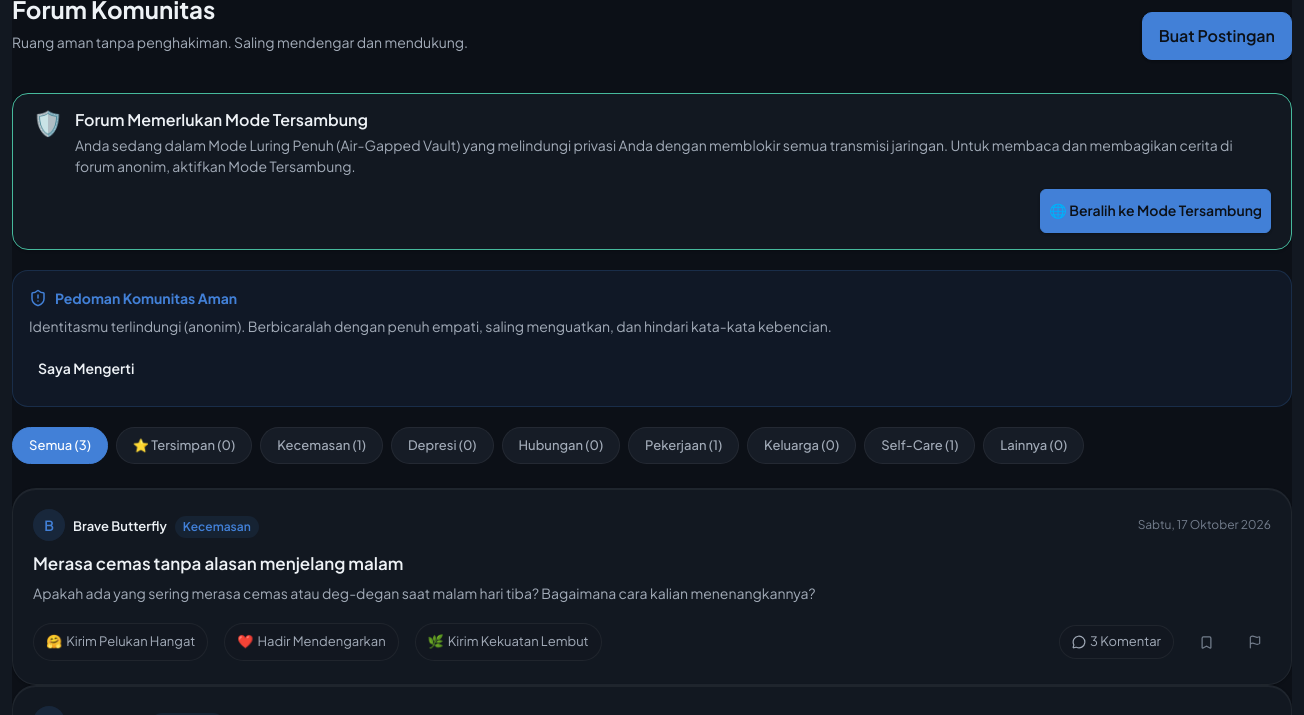
Forum Dual-Mode Gating & Quiet Support Reactions › allows composing posts in air-gapped mode, saving locally with air-gapped toast notification
# Open composer
Click the button "Buat Postingan": (1217,36) [1142,12,1292,60]
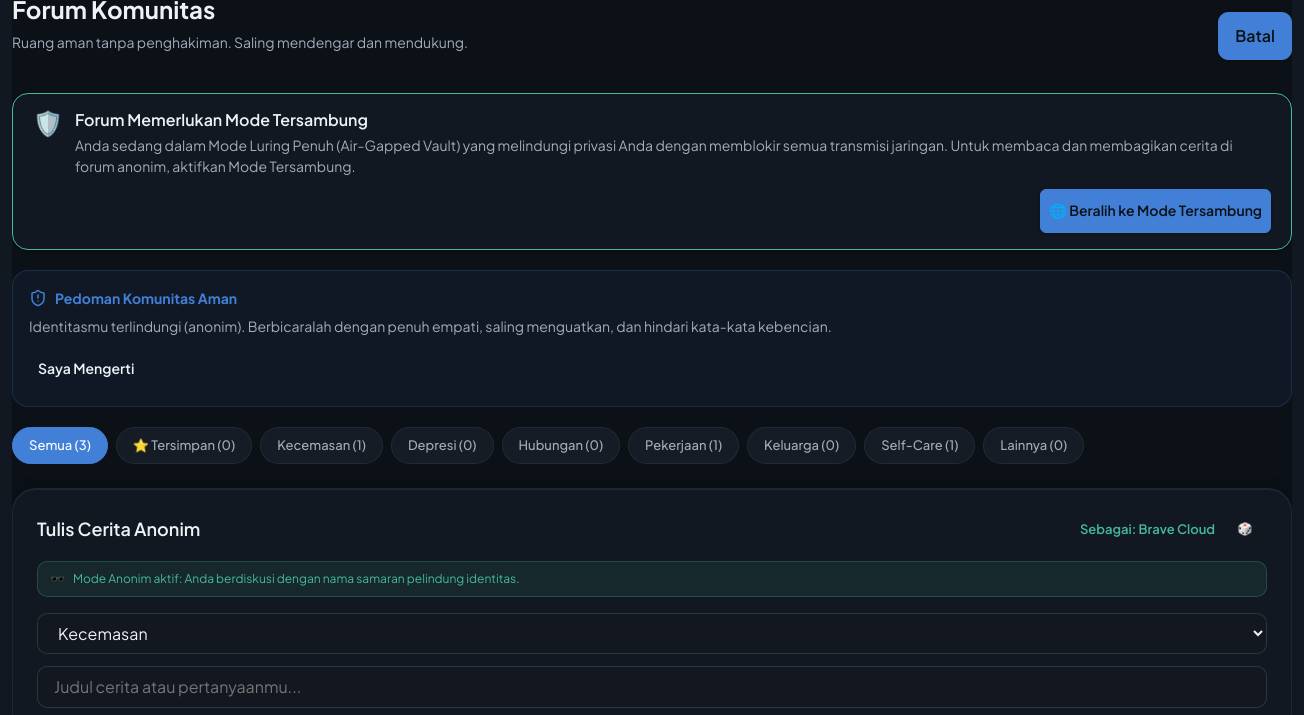
In the field with placeholder "Judul cerita atau pertanyaanmu...": (652,687) [37,666,1267,708], type "Cerita di Ruang Luring"
(page scrolled)
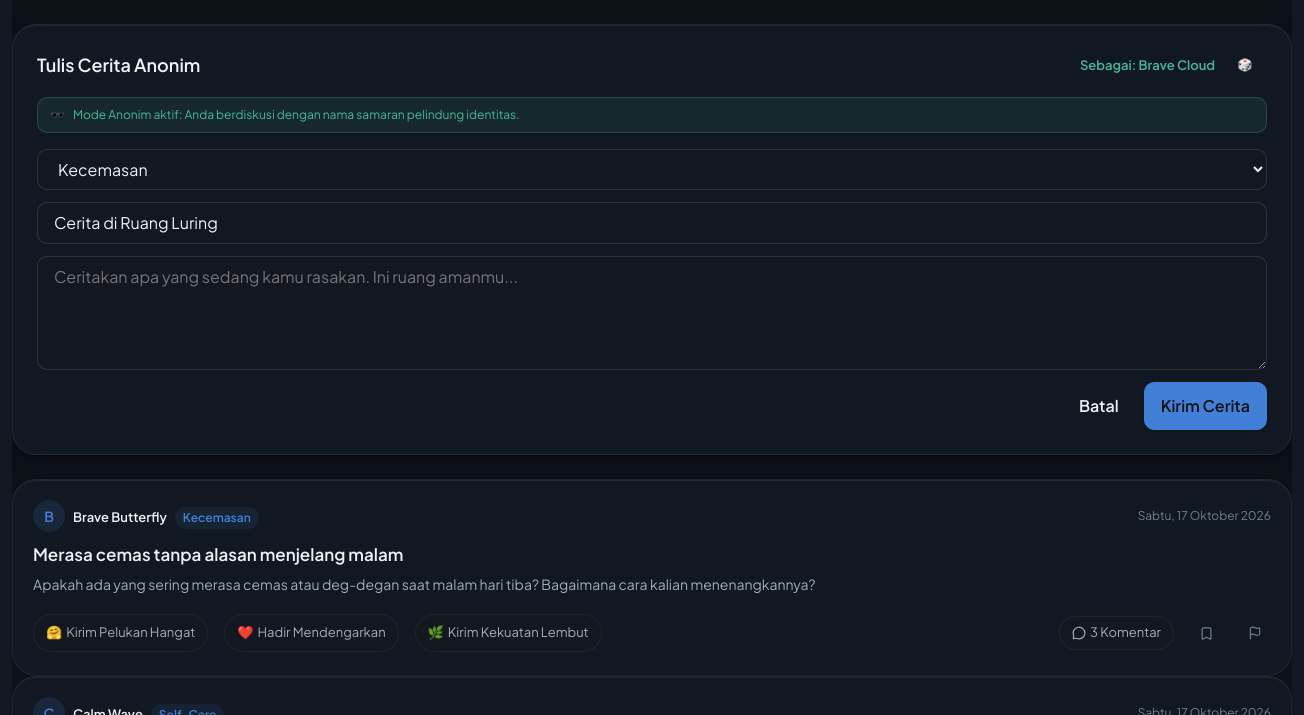
In the text box with placeholder "Ceritakan apa yang sedang kamu rasakan. Ini ruang amanmu...": (652,313) [37,256,1267,370], type "Menemukan kedamaian batin tanpa terhubung ke internet."
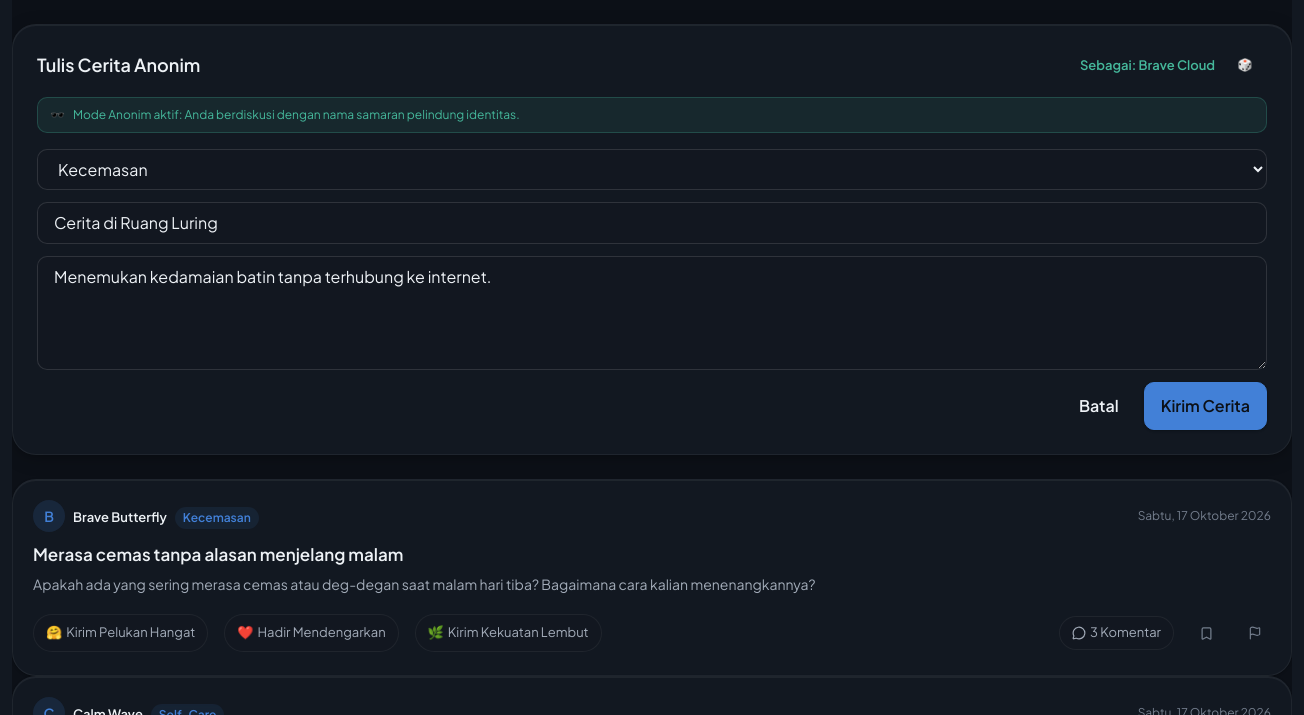
# Submit post
Click the button "Kirim Cerita": (1205,406) [1144,382,1267,430]
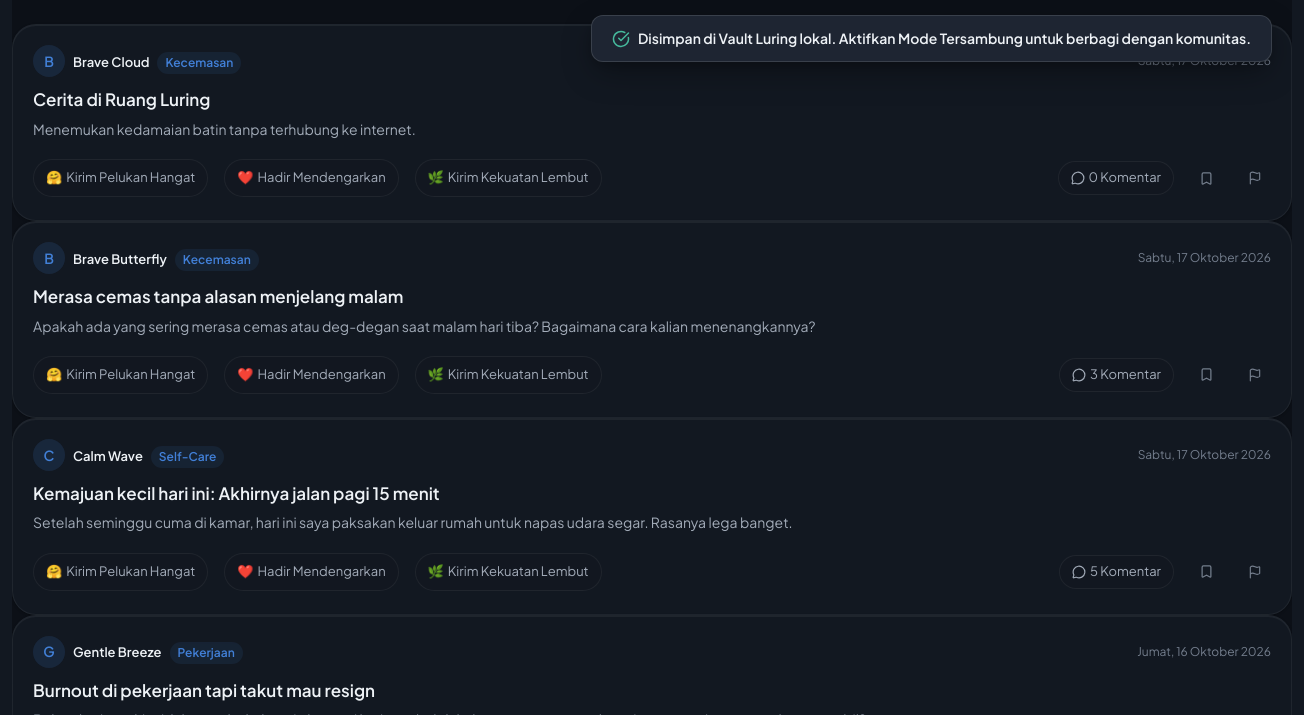
Check: the text "Disimpan di Vault Luring lokal" is shown, box [638,29,1251,47]
Check: the heading "Cerita di Ruang Luring" is shown, box [33,88,210,110]
